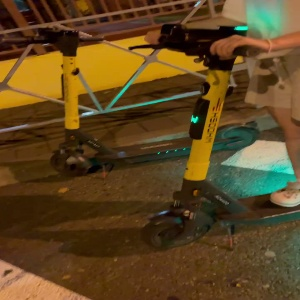human on a scooter: (127, 1, 300, 255)
